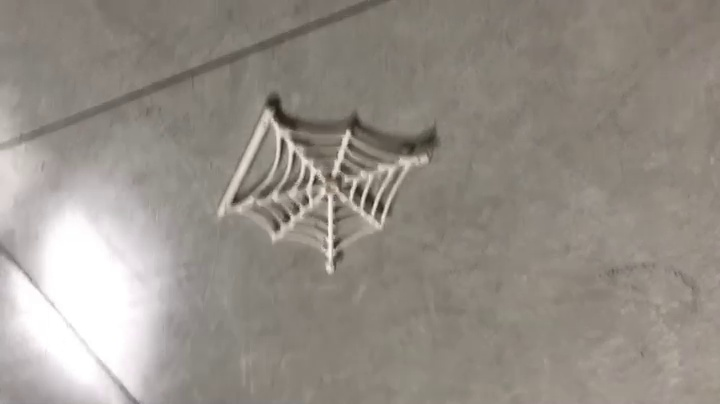web: (216, 99, 437, 275)
